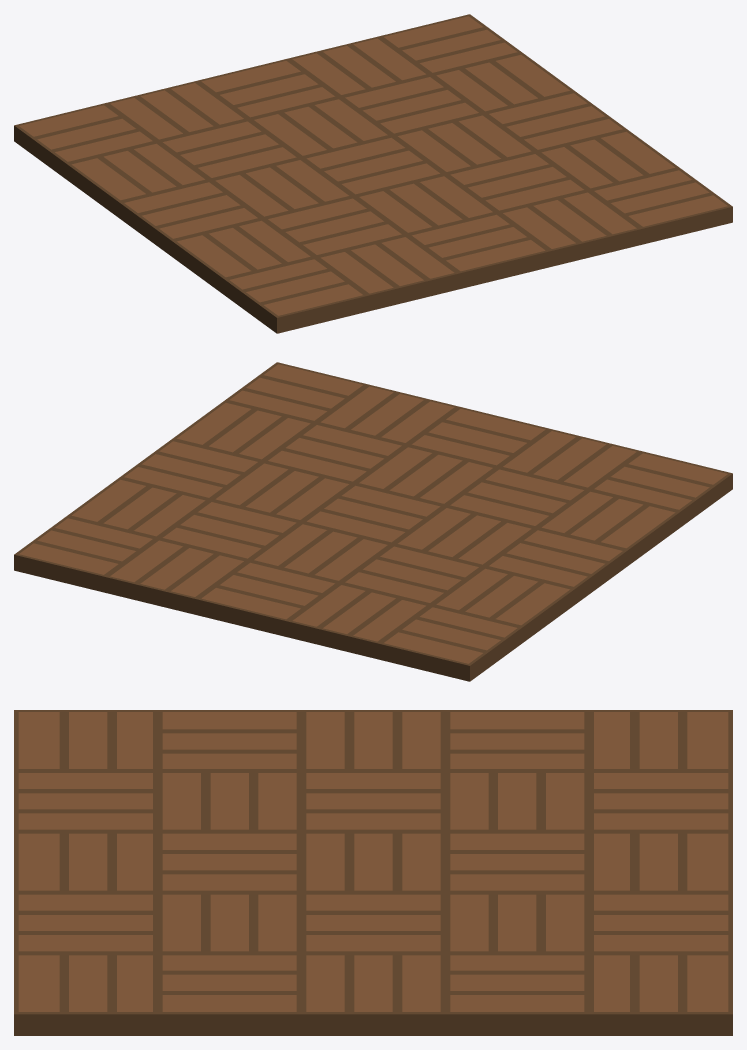
Rendered from floor-parquet-b-3x3m.fbx.
The picture shows the model from 3 angles, top to bottom: view 1: azimuth 30°, elevation 25°; view 2: azimuth 150°, elevation 25°; view 3: azimuth 270°, elevation 25°; orthographic projection. The views are drawn at different scales.
Parts seen in each view (by area): view 1: floor-parquet-b-3x3m; view 2: floor-parquet-b-3x3m; view 3: floor-parquet-b-3x3m.
Boxes of the visible parts, x1,y1,x2,y2 form: floor-parquet-b-3x3m: [14, 14, 732, 333]; floor-parquet-b-3x3m: [14, 362, 732, 681]; floor-parquet-b-3x3m: [14, 710, 732, 1035].
Size of the model in its own units: 3 by 0.1 by 3.
